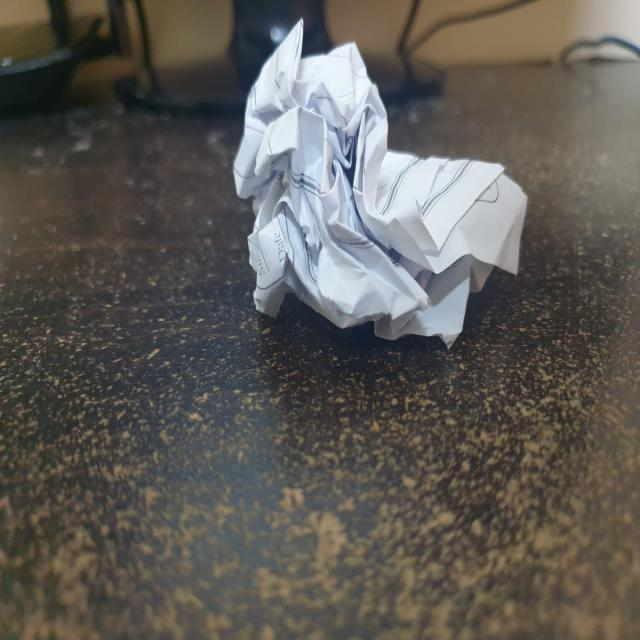Paper: (237, 21, 529, 347)
